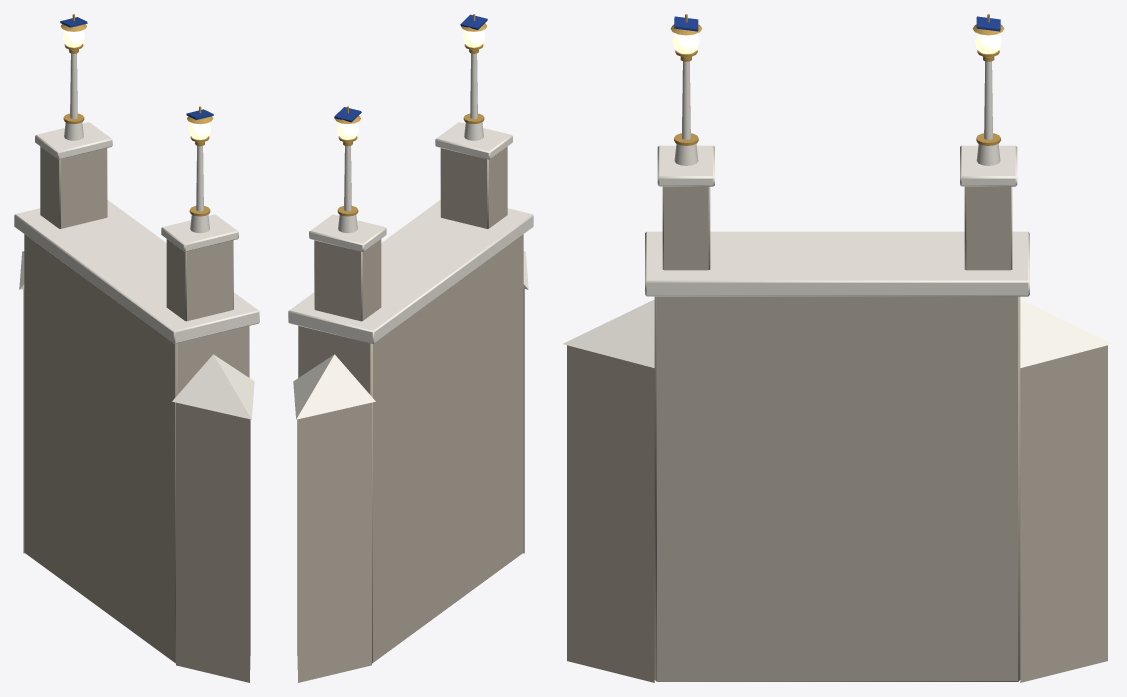
Rendered from bridge_pier.glb.
The picture shows the model from 3 angles, left to right: view 1: azimuth 30°, elevation 25°; view 2: azimuth 150°, elevation 25°; view 3: azimuth 270°, elevation 25°; orthographic projection. The views are drawn at different scales.
Parts seen in each view (by area): view 1: pier; view 2: pier; view 3: pier.
Part boxes in pixels (<box>): pier: <box>14,14,259,682</box>; pier: <box>288,14,533,682</box>; pier: <box>563,14,1111,682</box>.
Size of the model in its own units: 1.5 by 8.97 by 6.92.
